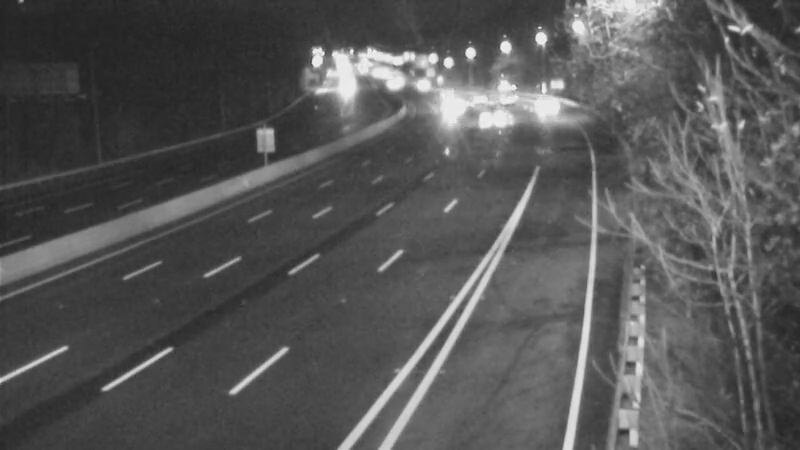vehicle: (395, 62, 445, 112), (364, 59, 414, 109), (479, 66, 529, 116), (461, 79, 511, 129), (521, 78, 571, 128), (426, 84, 476, 134), (464, 88, 514, 138)
